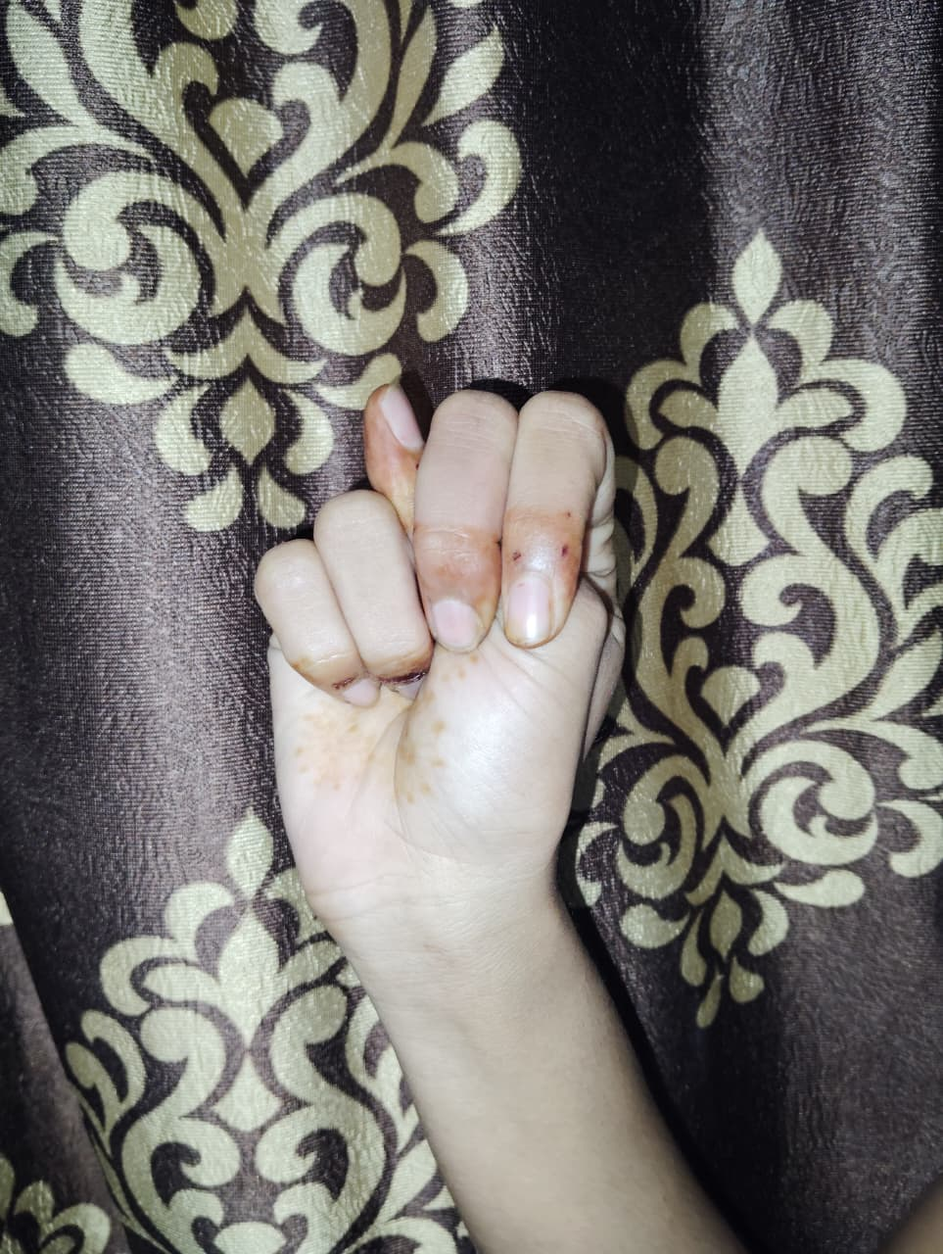N: (254, 379, 622, 919)
